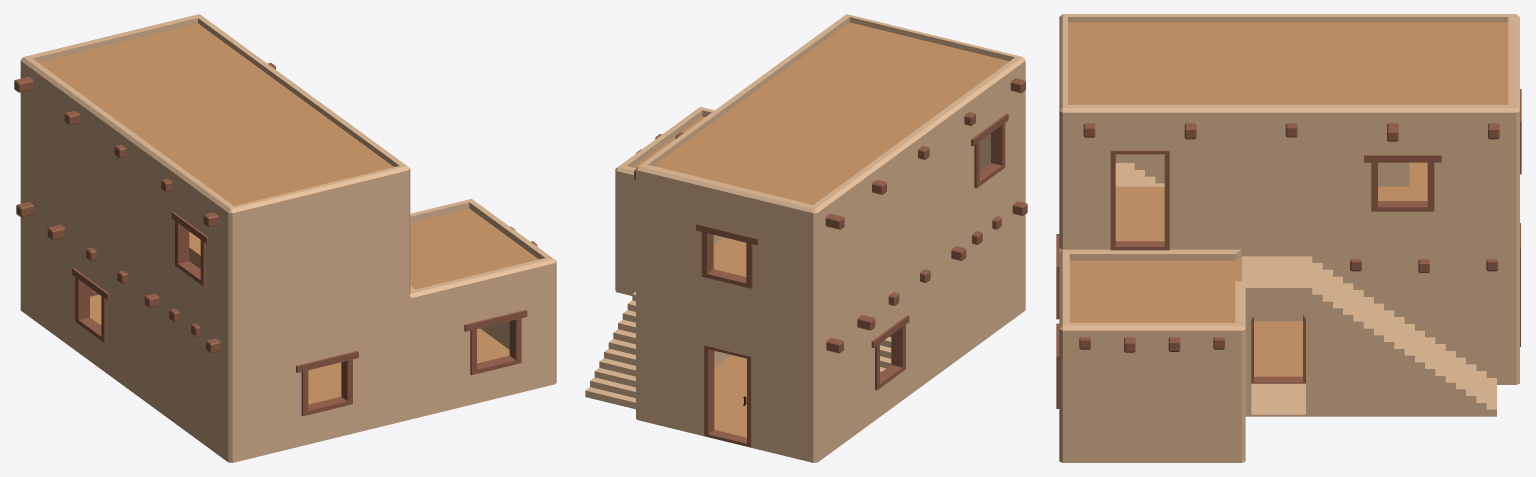
File: Large Building Frame D.fbx
3 renders of one model, left to right at view 1: azimuth 30°, elevation 25°; view 2: azimuth 150°, elevation 25°; view 3: azimuth 270°, elevation 25°, orthographic. The views are drawn at different scales.
Parts seen in each view (by area): view 1: Large Building Frame D; view 2: Large Building Frame D; view 3: Large Building Frame D.
Part boxes in pixels (box(x1,y1,x2,y2)): Large Building Frame D: box(14, 14, 556, 462); Large Building Frame D: box(585, 14, 1027, 462); Large Building Frame D: box(1056, 14, 1521, 462).
Size of the model in its own units: 953 by 653 by 999.
